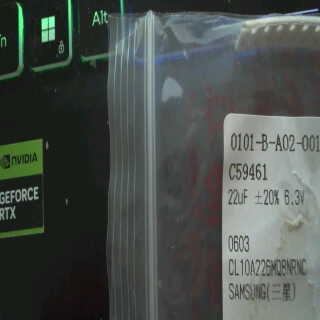22uF: (224, 185, 251, 208)
